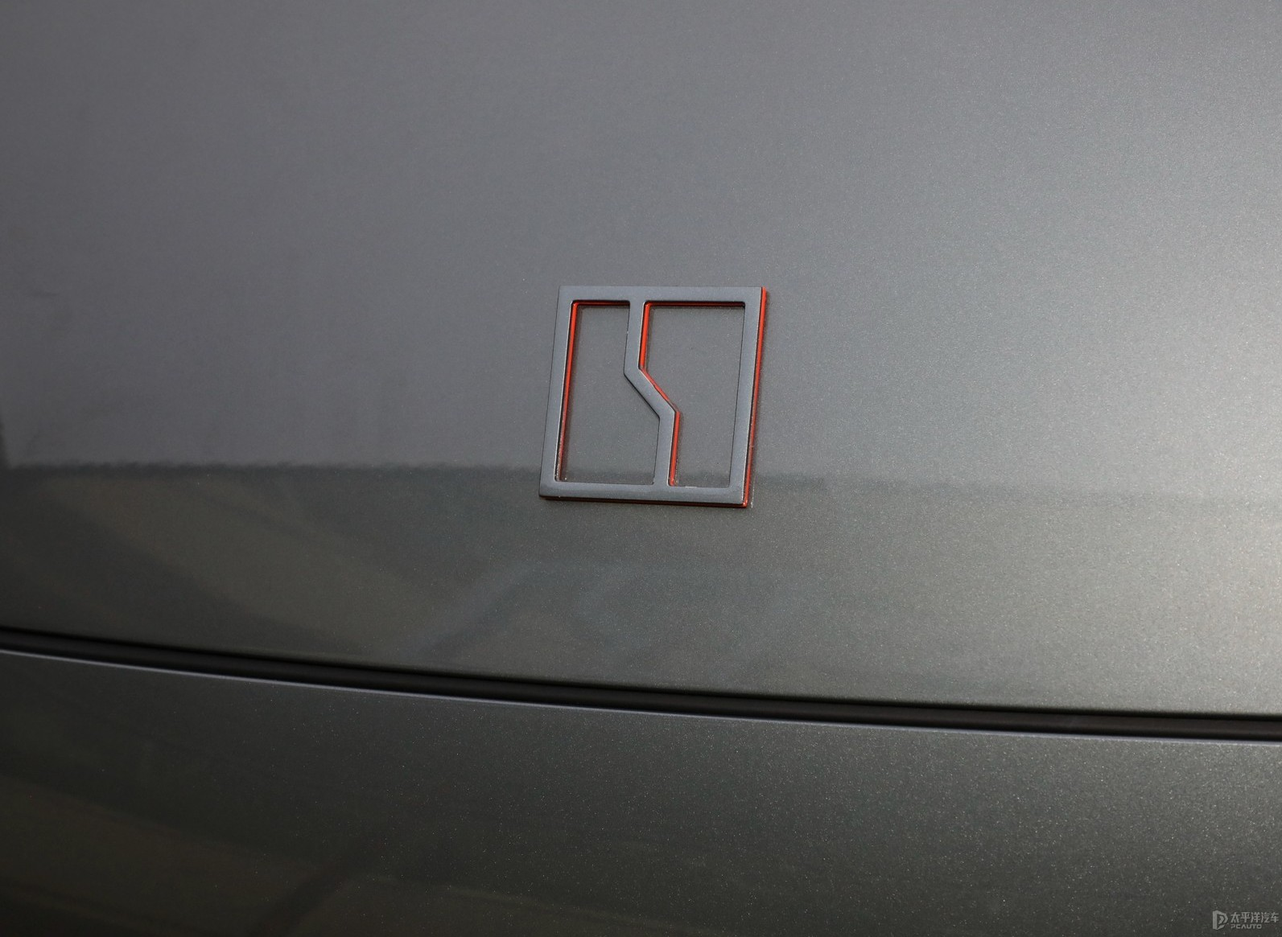ZEEKR: (539, 286, 766, 503)
